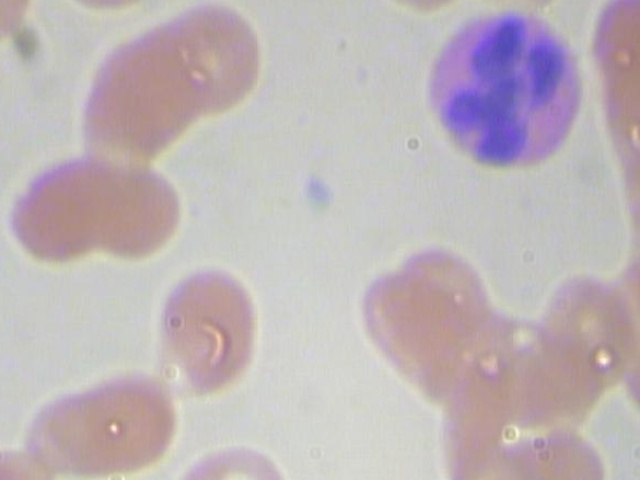Platelets: (293, 167, 351, 211)
RBC: (14, 370, 186, 474), (149, 261, 265, 396), (154, 0, 270, 129), (4, 149, 125, 264), (88, 150, 185, 266)
WBC: (397, 0, 598, 186)
